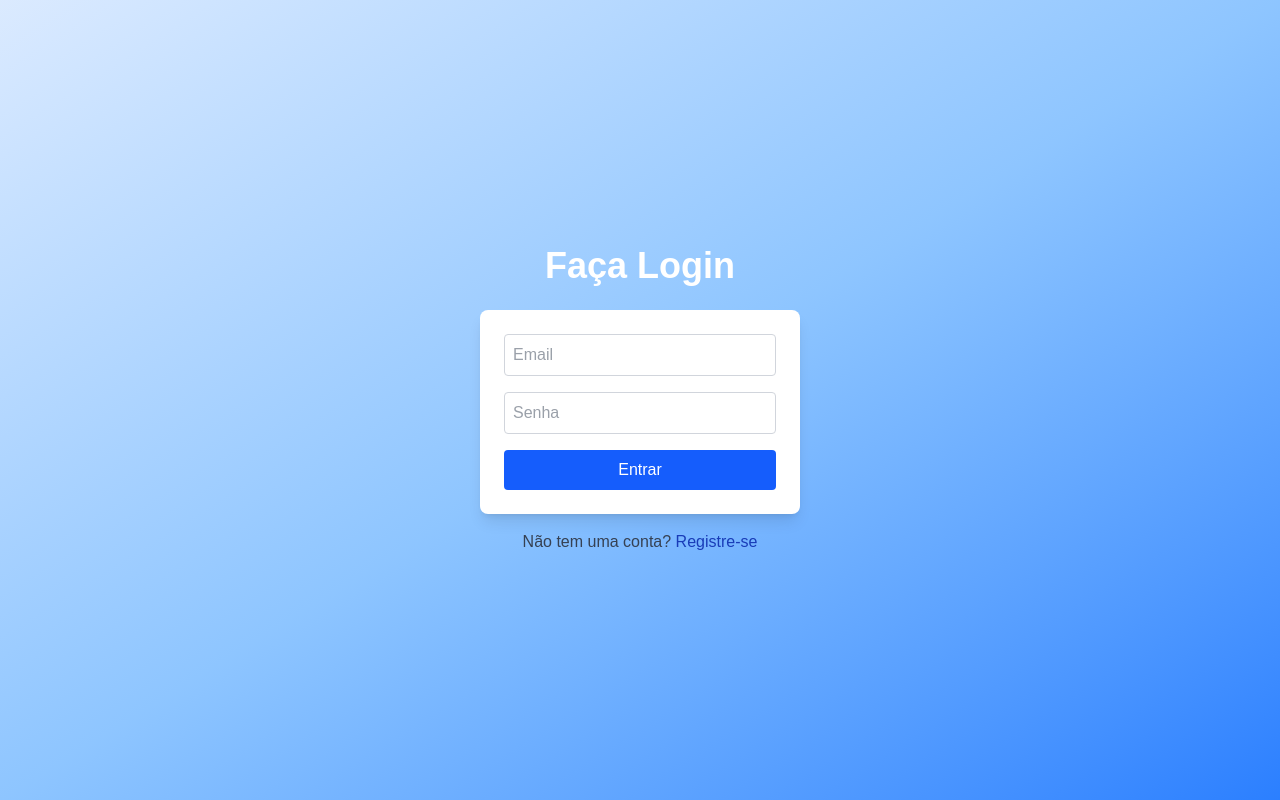
Scenario: LoginPage › shows an error message when fields are empty
Step 1. Click the button "Entrar" → (640, 470), box [504,450,776,490]
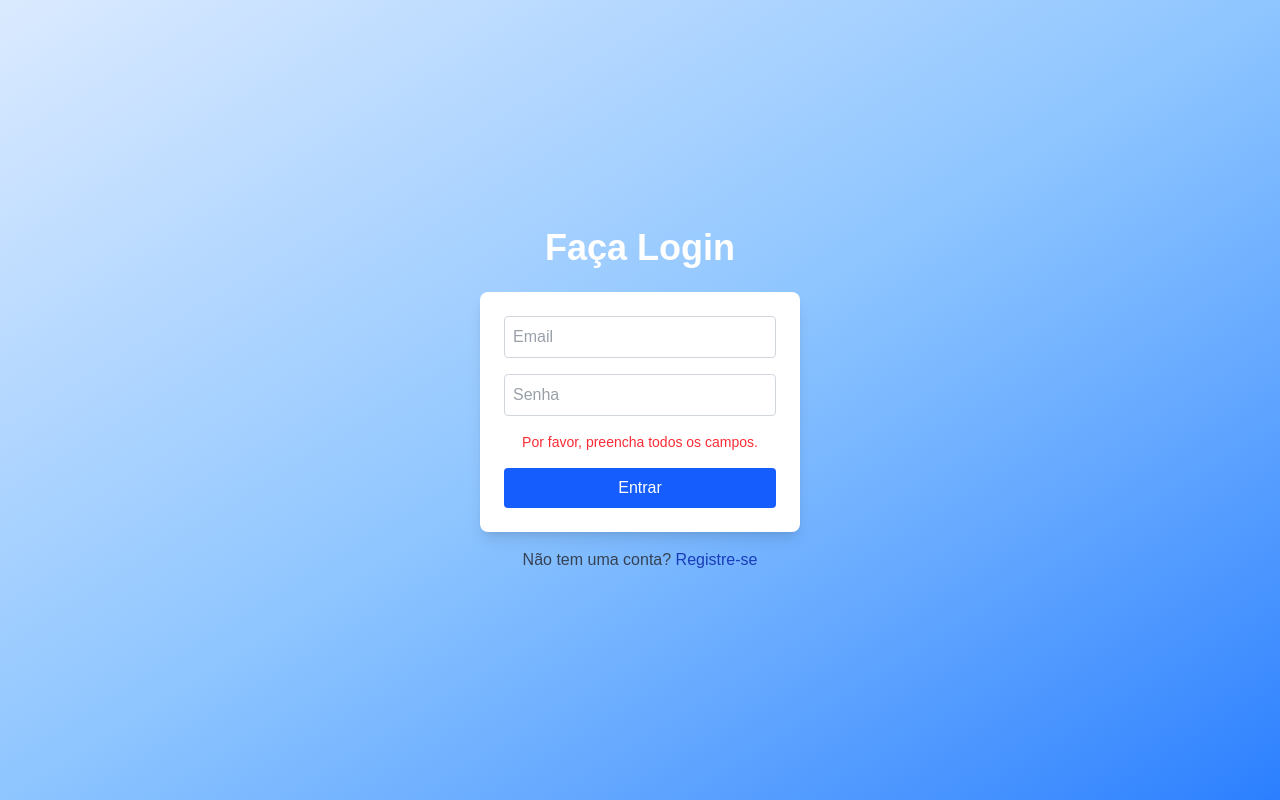
Expected: the text "Por favor, preencha todos os campos." is shown, [504,432,776,452]
